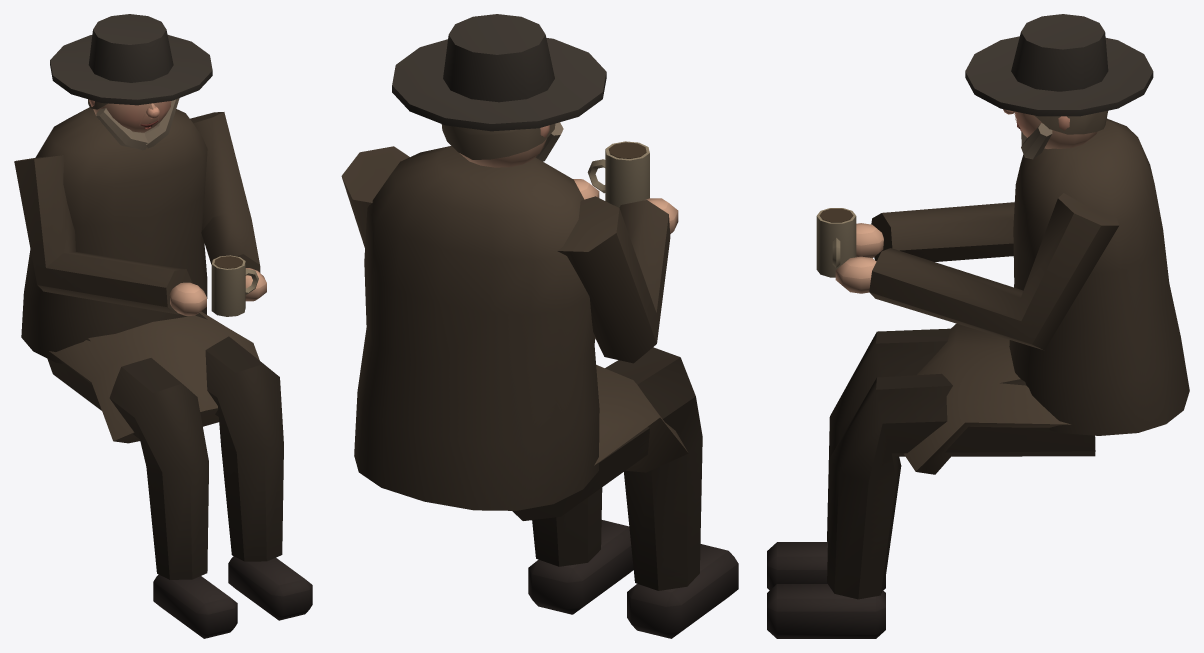
File: ph_chr_guest_a.glb
3 views of the same model, side by side, from view 1: azimuth 30°, elevation 25°; view 2: azimuth 150°, elevation 25°; view 3: azimuth 270°, elevation 25° (orthographic). The views are drawn at different scales.
Parts seen in each view (by area): view 1: ph_chr_guest_a; view 2: ph_chr_guest_a; view 3: ph_chr_guest_a.
Part boxes in pixels (x1,y1,x2,y2): ph_chr_guest_a: [14, 14, 312, 638]; ph_chr_guest_a: [341, 14, 738, 638]; ph_chr_guest_a: [767, 14, 1189, 638].
Bounding box in the file's own units: 0.5687 × 1.29 × 0.8536.
